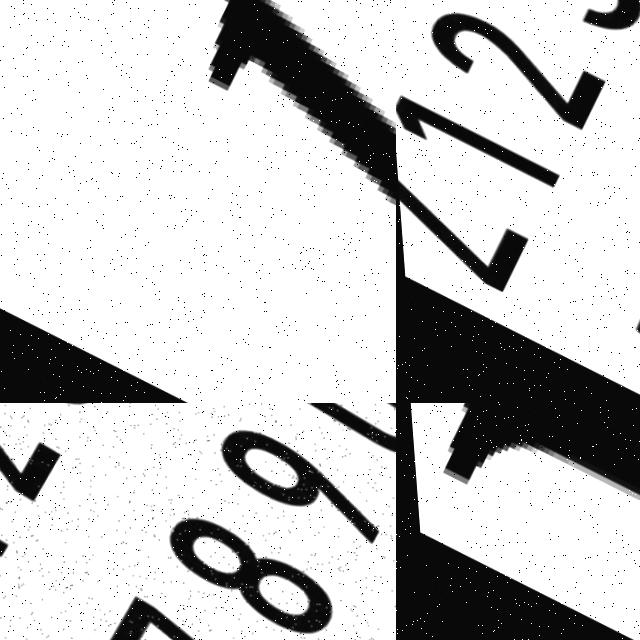0: (223, 403, 396, 501)
1: (396, 72, 573, 222)
2: (396, 0, 626, 157), (0, 403, 87, 532)
3: (435, 0, 640, 64)
6: (556, 268, 640, 403)
7: (56, 563, 297, 640)
8: (113, 479, 356, 640)
9: (170, 403, 396, 584)
J: (0, 0, 396, 388)
N: (396, 403, 640, 640)
